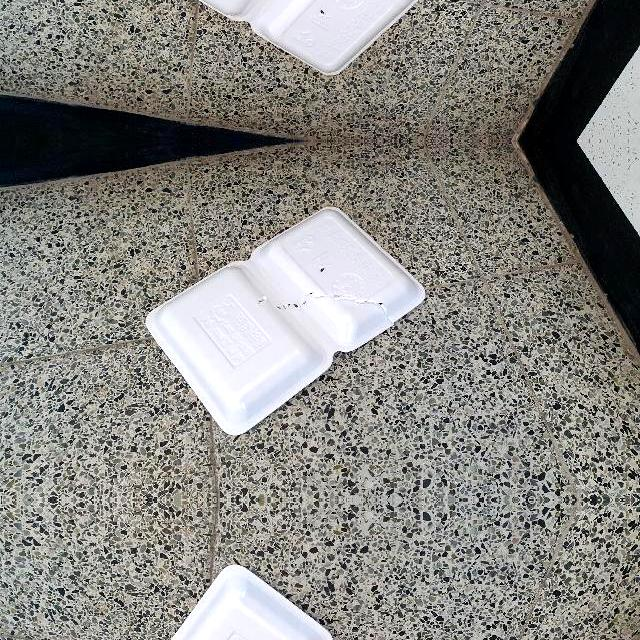Styrofoam: (146, 206, 427, 437), (146, 206, 425, 434), (145, 561, 426, 640), (145, 0, 426, 74), (200, 0, 418, 74), (170, 564, 332, 640)
